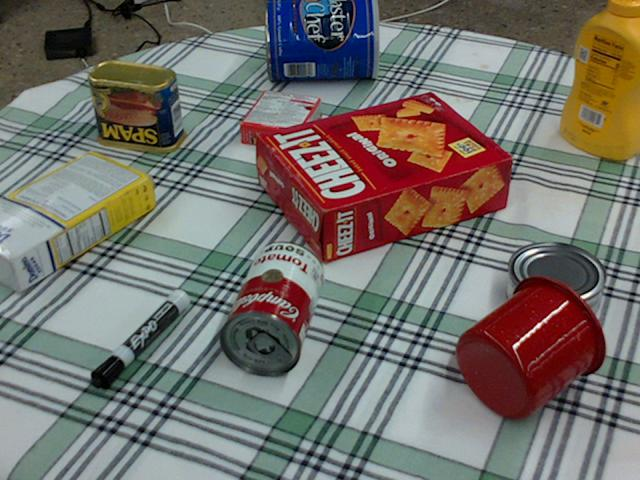cracker_box: (258, 91, 512, 261)
gelatin_box: (239, 87, 320, 152)
large_marker: (88, 289, 188, 389)
master_chef_can: (263, 0, 379, 81)
mug: (456, 272, 606, 419)
mustard_bottle: (558, 0, 639, 160)
potted_meat_can: (88, 60, 185, 152)
sugar_box: (0, 152, 152, 290)
tomato_soup_can: (218, 239, 324, 375)
tuna_fish_can: (507, 240, 606, 326)
